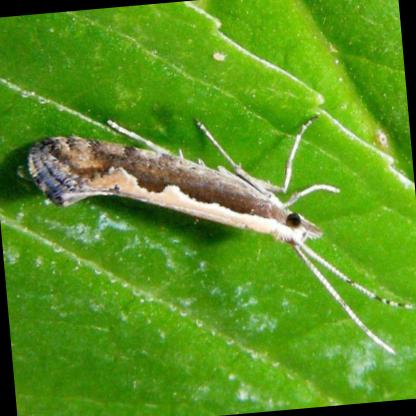plutella: (0, 108, 416, 362)
